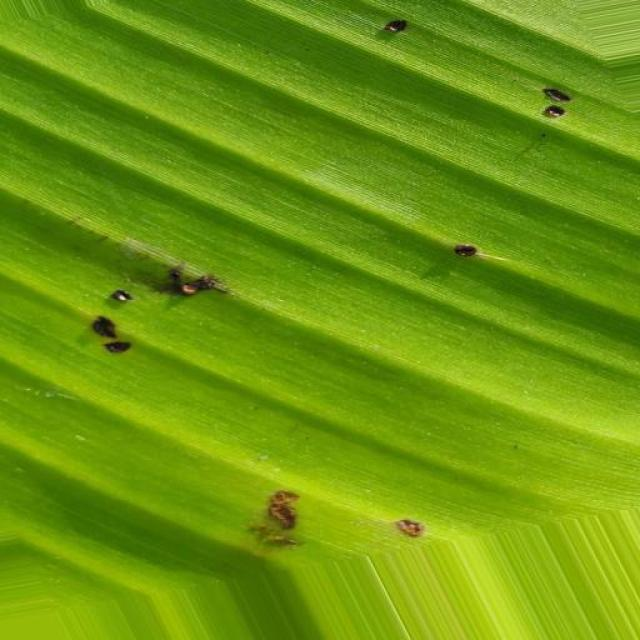Black_rot: (74, 242, 268, 374), (231, 470, 452, 572), (518, 80, 602, 131), (355, 10, 442, 46), (439, 225, 488, 270)
